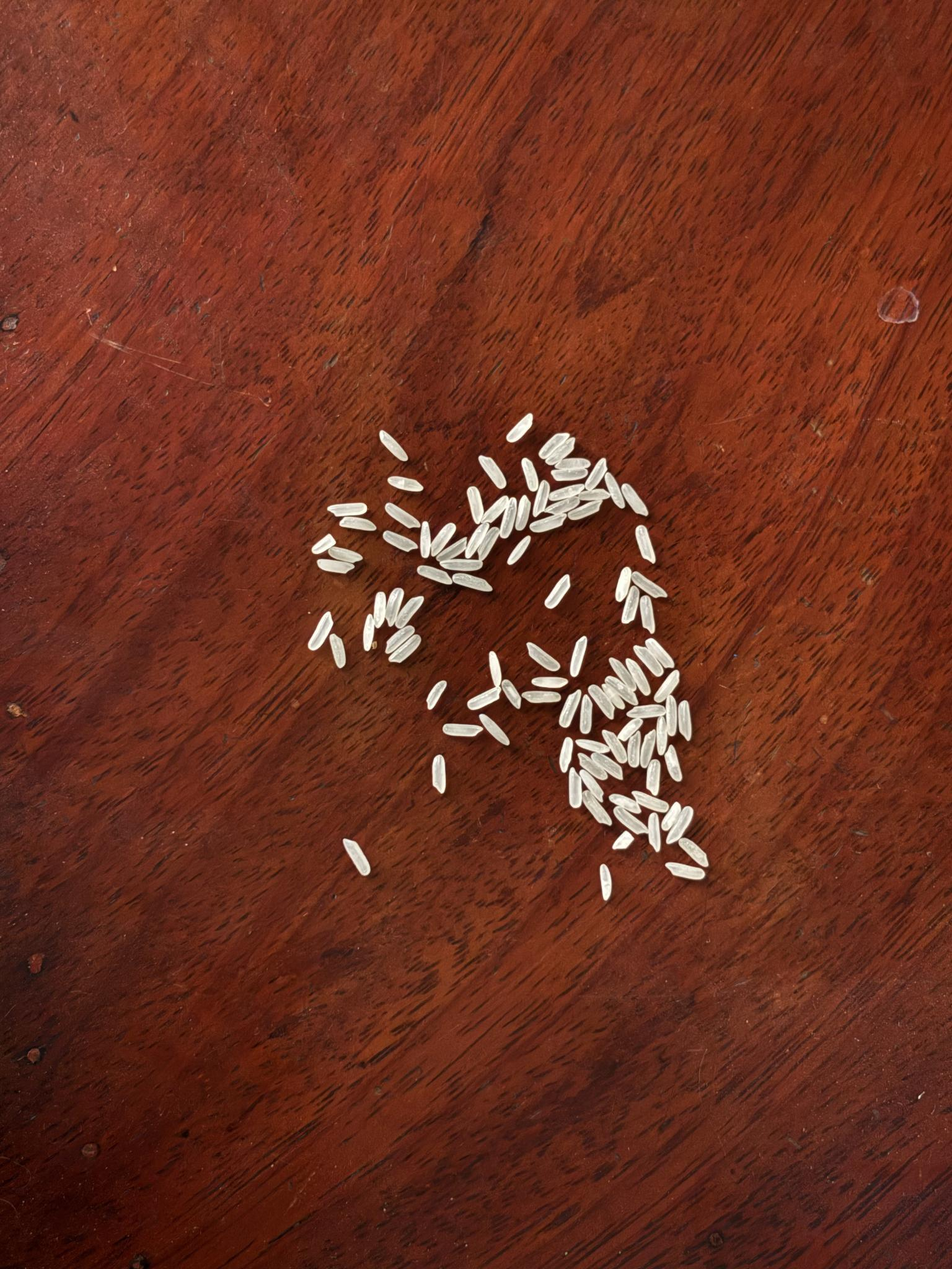Rice-th-y-nh: (666, 807, 694, 845), (582, 791, 611, 826), (343, 838, 370, 875), (526, 643, 560, 671), (480, 714, 509, 745), (395, 597, 424, 628), (479, 456, 507, 488), (388, 636, 421, 663), (309, 613, 333, 650), (632, 573, 667, 598), (627, 659, 651, 695), (591, 752, 623, 779), (614, 807, 646, 834), (606, 677, 638, 704), (654, 670, 680, 703), (545, 575, 571, 608), (589, 685, 615, 718), (634, 646, 663, 675), (679, 838, 708, 867), (380, 431, 408, 461), (545, 438, 576, 465), (622, 484, 648, 516), (609, 658, 635, 690), (602, 730, 627, 763), (560, 690, 582, 727), (430, 524, 456, 555), (466, 523, 489, 558), (632, 791, 668, 813), (647, 638, 674, 667), (467, 687, 501, 710), (452, 573, 493, 592), (538, 433, 569, 458), (386, 503, 418, 527), (386, 626, 414, 653), (635, 526, 656, 562), (578, 754, 607, 780), (580, 770, 604, 801), (585, 459, 608, 491), (604, 473, 625, 508), (506, 415, 533, 442), (482, 496, 509, 523), (531, 481, 551, 517), (478, 528, 500, 560), (638, 731, 657, 768), (507, 536, 531, 565), (438, 538, 467, 562), (417, 565, 452, 584), (666, 863, 705, 880), (570, 637, 587, 676), (610, 793, 641, 814), (622, 587, 640, 623), (384, 531, 416, 551), (514, 496, 532, 531), (386, 589, 403, 626), (567, 768, 583, 807), (615, 567, 632, 602), (665, 746, 682, 781), (569, 502, 602, 520), (427, 680, 447, 709), (661, 802, 681, 831), (502, 680, 522, 709), (626, 732, 642, 768), (618, 718, 643, 741), (627, 704, 665, 719), (431, 755, 446, 793), (329, 634, 346, 667), (531, 516, 566, 532), (500, 503, 516, 538), (678, 700, 692, 740), (602, 683, 624, 708), (550, 484, 584, 500), (545, 498, 579, 514), (468, 487, 483, 523), (640, 596, 655, 632), (442, 558, 483, 571), (339, 517, 377, 531), (522, 458, 538, 491), (646, 760, 661, 795), (579, 696, 593, 733), (328, 503, 367, 516), (318, 559, 354, 573), (488, 651, 502, 687), (648, 813, 661, 851), (389, 477, 424, 491), (373, 592, 387, 627), (329, 547, 361, 562), (559, 738, 573, 771), (443, 724, 480, 736), (576, 739, 609, 752), (666, 696, 677, 735), (552, 469, 587, 481), (523, 691, 561, 702), (312, 535, 335, 553), (556, 457, 590, 469), (612, 831, 633, 850), (363, 615, 374, 651), (600, 864, 611, 900), (420, 521, 431, 557), (656, 717, 667, 751), (532, 677, 567, 687), (580, 489, 609, 501)
